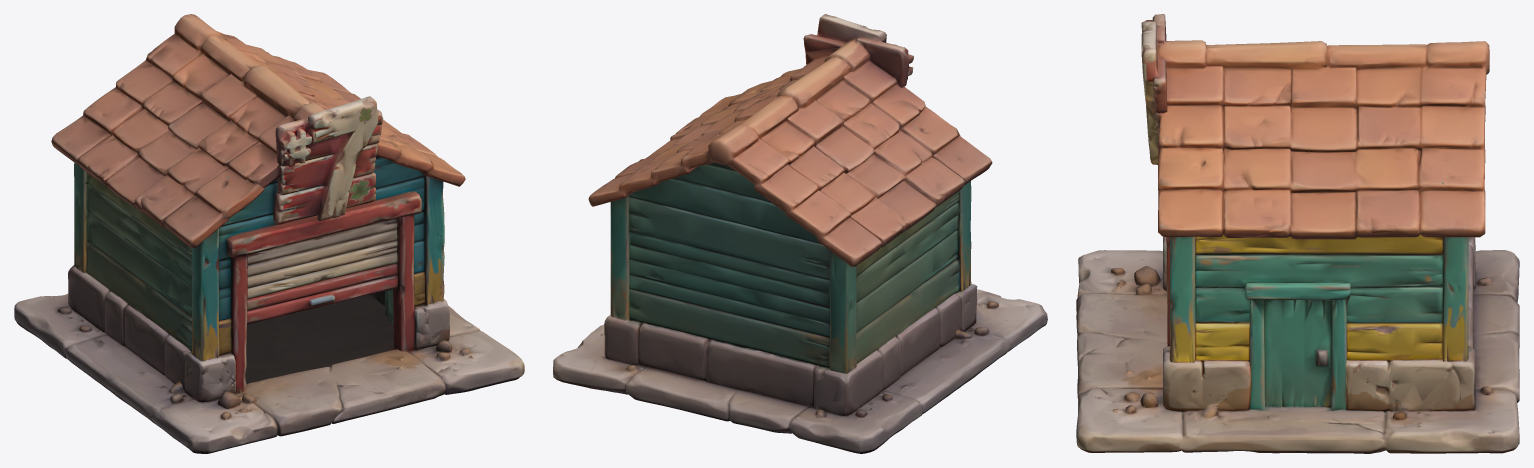
Rendered from garage_small.glb.
3 renders of one model, left to right at view 1: azimuth 30°, elevation 25°; view 2: azimuth 150°, elevation 25°; view 3: azimuth 270°, elevation 25°, orthographic. The views are drawn at different scales.
Visible parts, largest first — view 1: tripo_part_1, tripo_part_0, tripo_part_5, tripo_part_3, tripo_part_8, tripo_part_7, tripo_part_2, tripo_part_4, tripo_part_11; view 2: tripo_part_1, tripo_part_6, tripo_part_0, tripo_part_2, tripo_part_5, tripo_part_3, tripo_part_4; view 3: tripo_part_1, tripo_part_0, tripo_part_4, tripo_part_9, tripo_part_2, tripo_part_11, tripo_part_3.
Part boxes in pixels (x1,y1,x2,y2): tripo_part_1: [51, 14, 465, 248]; tripo_part_0: [14, 294, 524, 453]; tripo_part_5: [74, 155, 424, 361]; tripo_part_3: [273, 96, 383, 224]; tripo_part_8: [247, 218, 397, 324]; tripo_part_7: [226, 191, 421, 393]; tripo_part_2: [68, 265, 237, 402]; tripo_part_4: [424, 175, 444, 305]; tripo_part_11: [413, 298, 449, 350]; tripo_part_1: [588, 40, 992, 266]; tripo_part_6: [627, 162, 829, 367]; tripo_part_0: [553, 289, 1047, 453]; tripo_part_2: [604, 273, 977, 415]; tripo_part_5: [829, 181, 971, 374]; tripo_part_3: [803, 14, 913, 87]; tripo_part_4: [610, 197, 630, 322]; tripo_part_1: [1157, 40, 1489, 239]; tripo_part_0: [1076, 250, 1519, 453]; tripo_part_4: [1169, 234, 1471, 363]; tripo_part_9: [1245, 283, 1350, 410]; tripo_part_2: [1163, 236, 1475, 412]; tripo_part_11: [1163, 345, 1251, 414]; tripo_part_3: [1141, 14, 1167, 164].
Bounding box in the file's own units: 0.981 × 0.8224 × 0.9796.
1 material, 1 textured.
